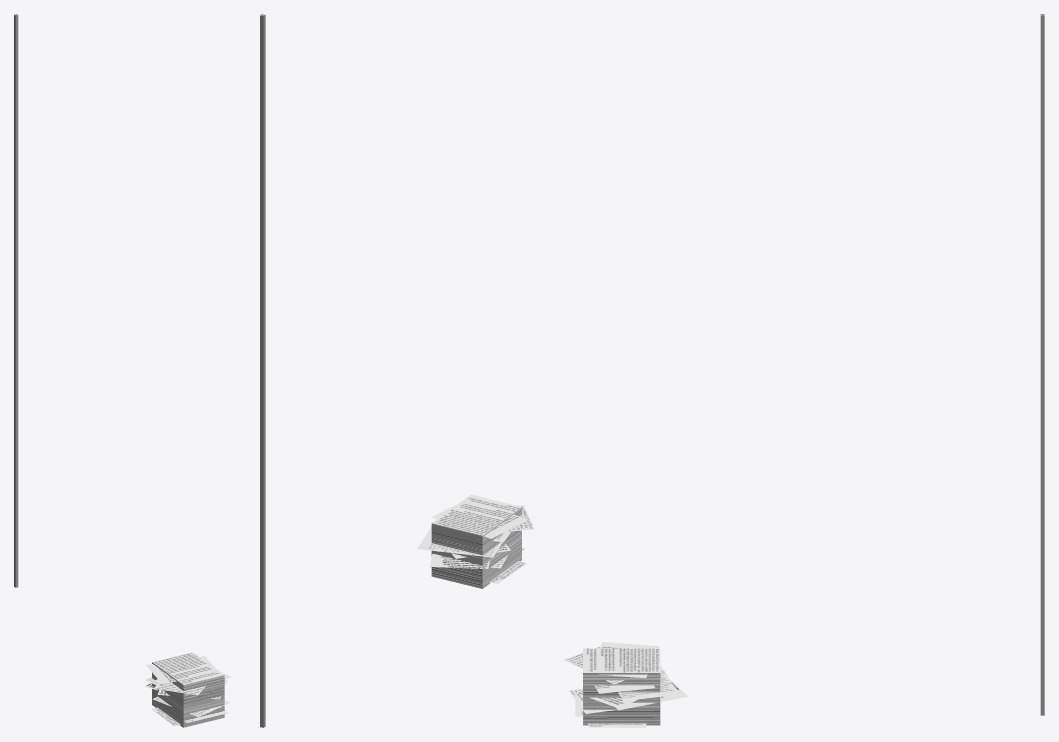
File: papier model.fbx
3 views of the same model, side by side, from view 1: azimuth 30°, elevation 25°; view 2: azimuth 150°, elevation 25°; view 3: azimuth 270°, elevation 25° (orthographic). The views are drawn at different scales.
Visible parts, largest first — view 1: pPlane10, pCube1; view 2: pPlane10, pCube1; view 3: pPlane10, pCube1.
Part boxes in pixels (x1=…): pPlane10: x1=144, y1=652, x2=231, y2=727; pCube1: x1=14, y1=14, x2=18, y2=587; pPlane10: x1=417, y1=494, x2=534, y2=588; pCube1: x1=260, y1=14, x2=265, y2=727; pPlane10: x1=563, y1=642, x2=687, y2=727; pCube1: x1=1040, y1=14, x2=1044, y2=715.
Size of the model in its own units: 29.14 by 200 by 125.
Materials: 2 (1 with a texture image).
